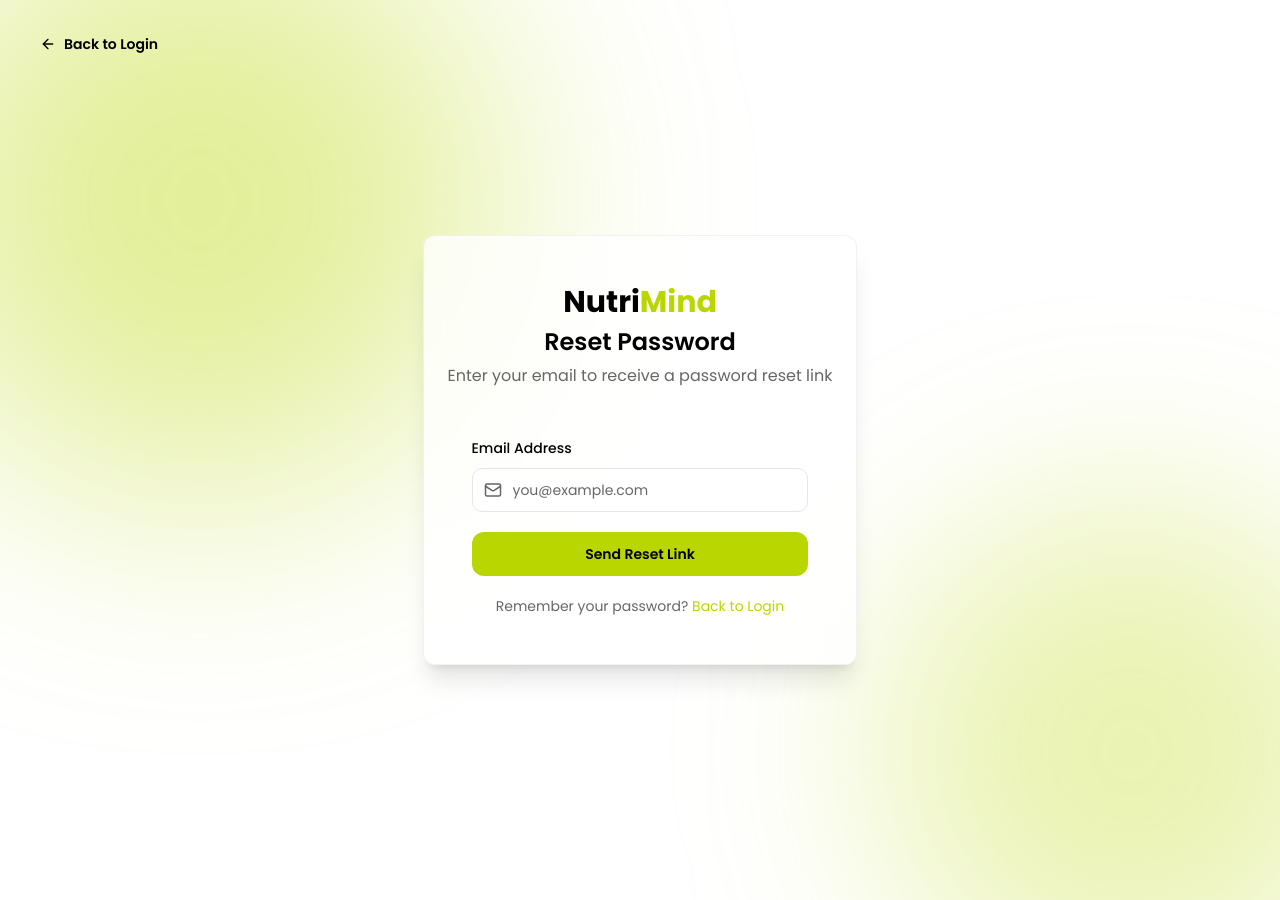
Scenario: ResetPassword Component › should validate email format
Step 1. Type "invalid-email" into the field with placeholder "you@example.com" → point(640, 490), box left=472, top=468, right=808, bottom=512
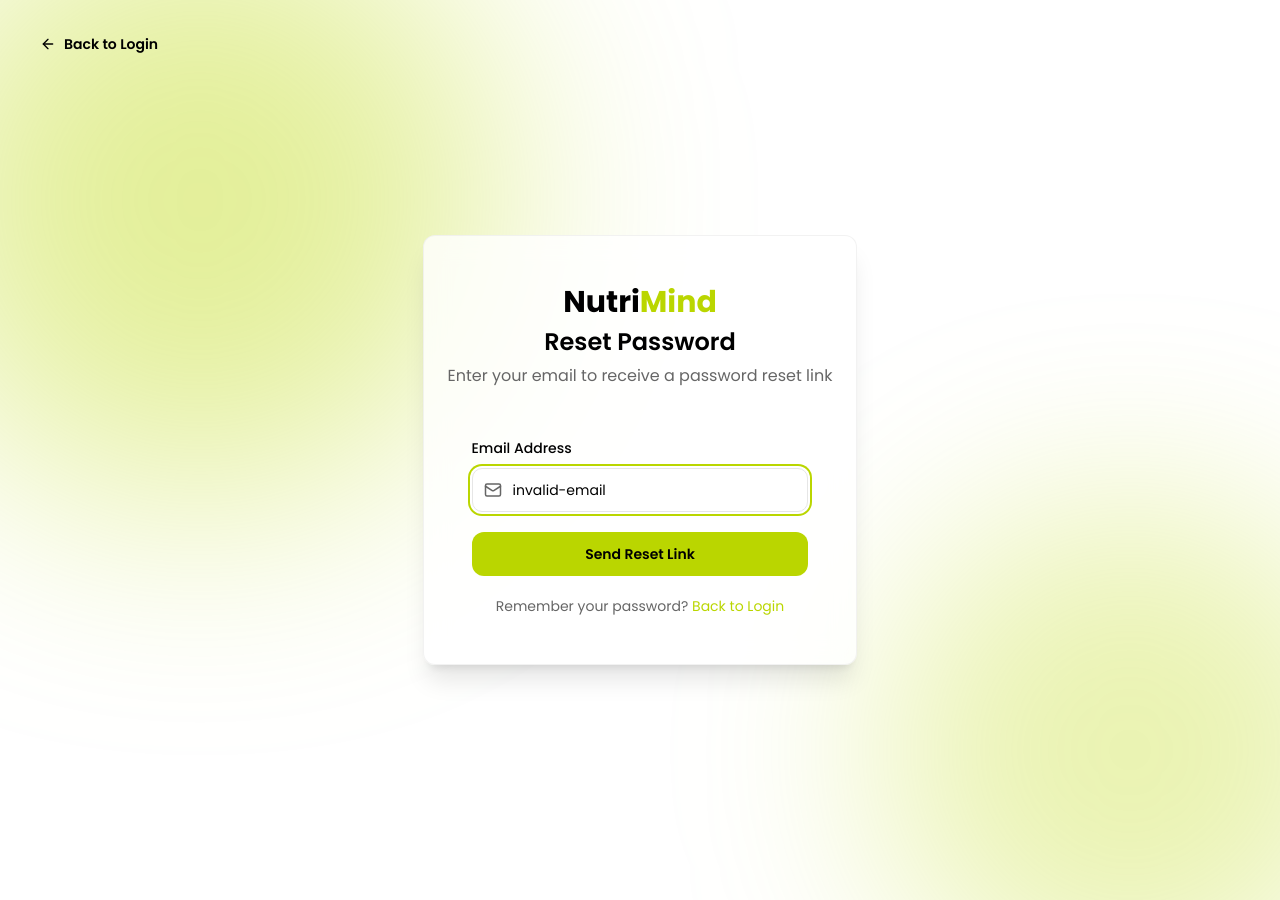
Step 2. Click the button "Send Reset Link" → point(640, 554), box left=472, top=532, right=808, bottom=576
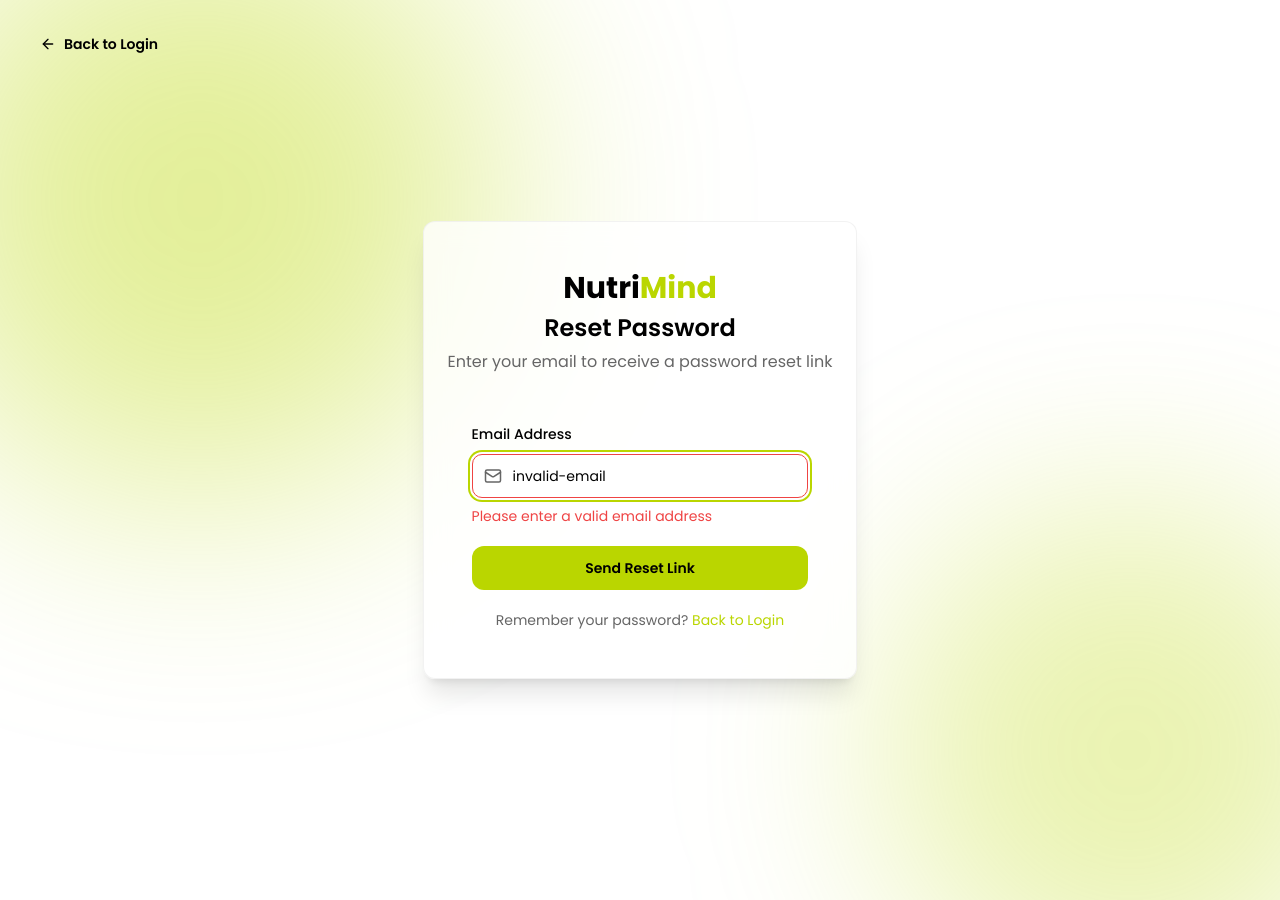
Now the text "Please enter a valid email address" is shown, box left=472, top=506, right=712, bottom=526
